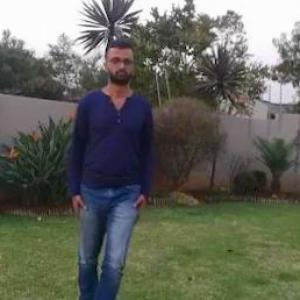follow: (64, 22, 149, 299)
